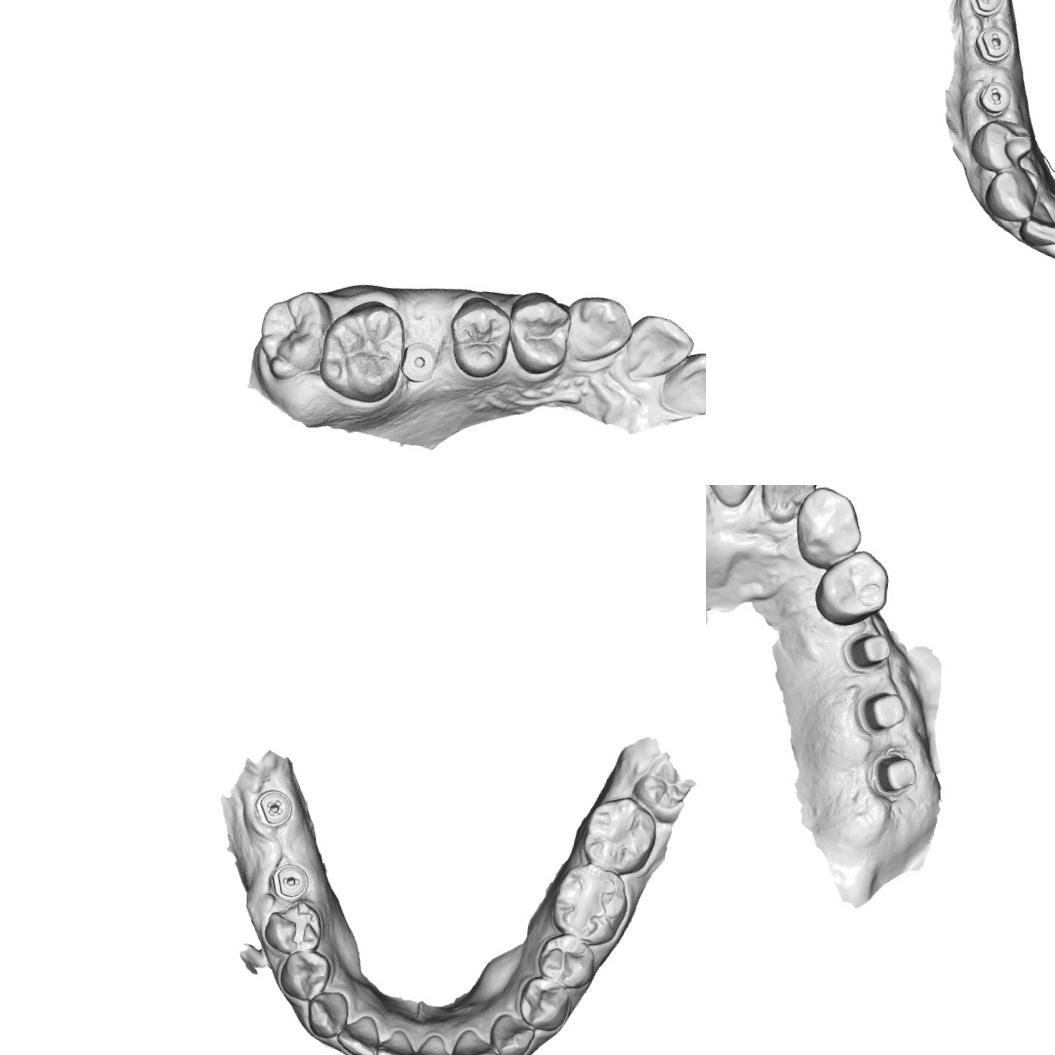abutment: (856, 685, 913, 744), (844, 626, 898, 682), (870, 742, 922, 798)
canine: (787, 485, 871, 573), (558, 290, 636, 368), (980, 160, 1042, 227), (301, 984, 352, 1042), (485, 1010, 538, 1055)
implant: (398, 340, 439, 383)
implant_minus: (970, 22, 1018, 68), (264, 859, 311, 904), (969, 77, 1015, 121), (962, 0, 1007, 22)
implant_plus: (249, 786, 297, 832)
incisor: (620, 310, 698, 382), (657, 346, 706, 424), (755, 485, 825, 530), (333, 1010, 384, 1055), (1014, 199, 1055, 254), (449, 1026, 501, 1055), (373, 1024, 421, 1055), (706, 485, 765, 509), (412, 1030, 461, 1055)
molar: (315, 294, 409, 404), (249, 282, 336, 386), (546, 858, 633, 950), (578, 790, 662, 880)
premolar: (810, 546, 896, 634), (502, 286, 575, 378), (443, 295, 518, 383), (258, 895, 328, 959), (966, 115, 1038, 177), (534, 928, 600, 994), (514, 973, 574, 1034), (274, 946, 334, 1004)
